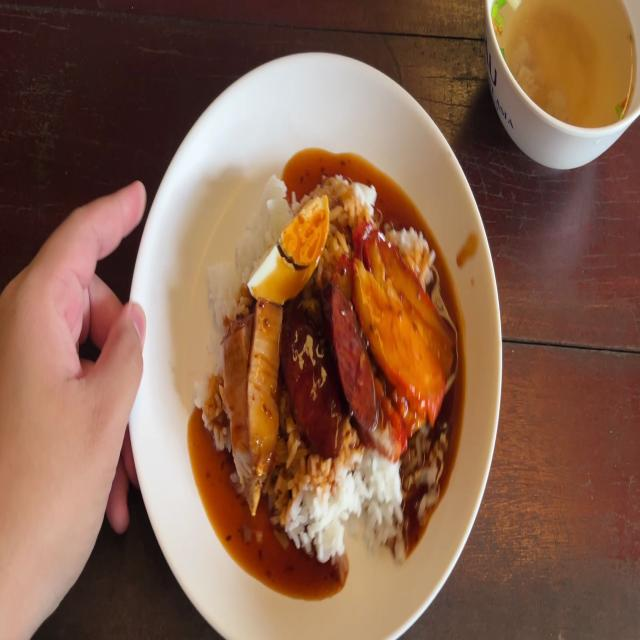red_pork_and_crispy_pork: (249, 196, 329, 298)
stir_fried_basil: (328, 273, 374, 442), (287, 305, 339, 445)
